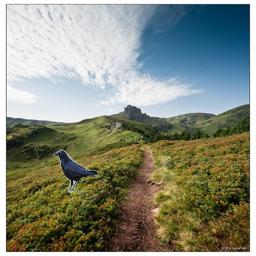Crow: (53, 150, 98, 193)
